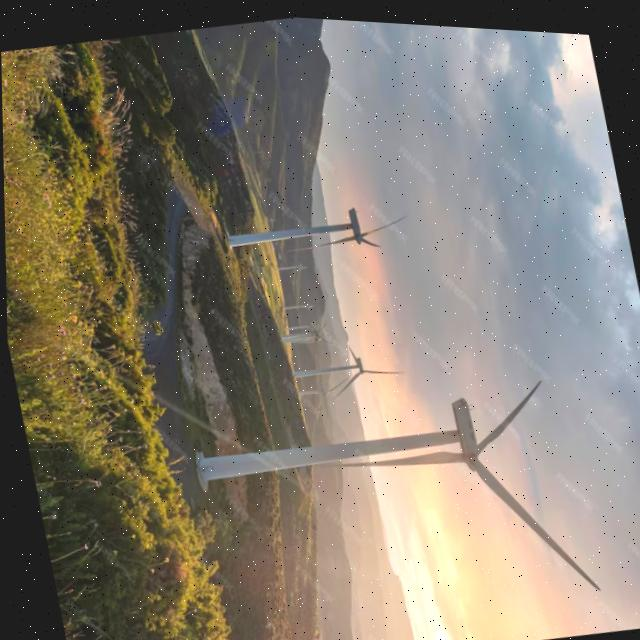solid-blade: (467, 452, 595, 581), (474, 376, 537, 448), (327, 445, 463, 462)
wind-turbine: (193, 375, 595, 582), (225, 203, 404, 248)
